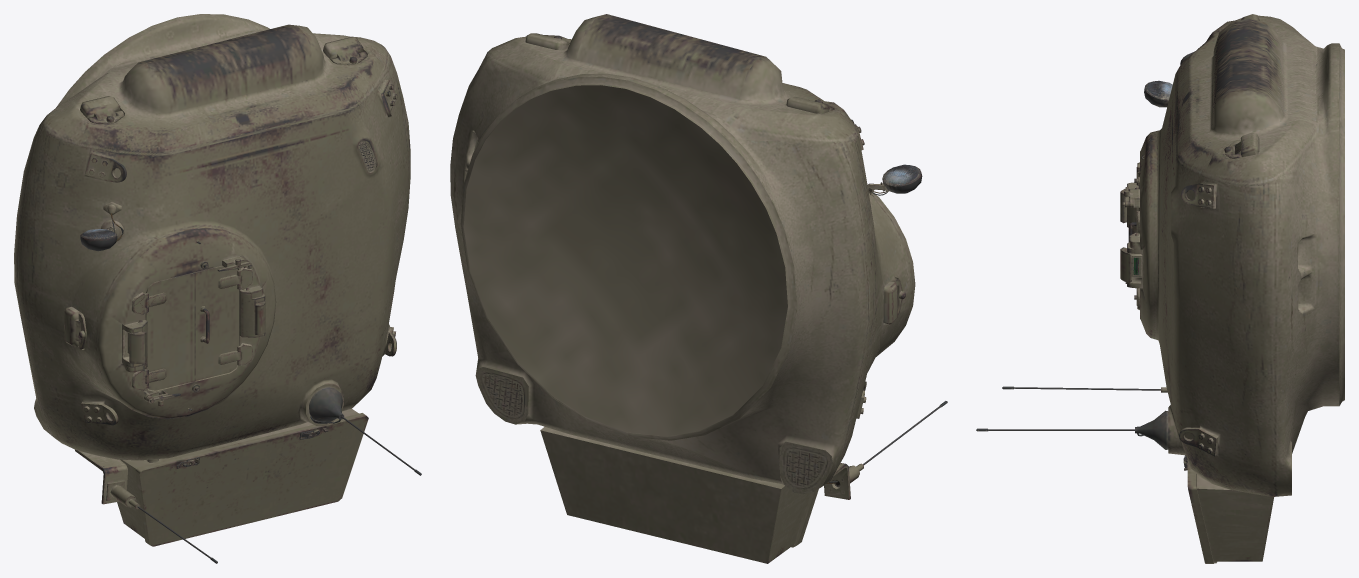
File: Turret_01.glb
3 views of the same model, side by side, from view 1: azimuth 30°, elevation 25°; view 2: azimuth 150°, elevation 25°; view 3: azimuth 270°, elevation 25° (orthographic). The views are drawn at different scales.
Parts seen in each view (by area): view 1: set_0_group_0; view 2: set_0_group_0; view 3: set_0_group_0.
Boxes of the visible parts, box(x1,y1,x2,y2) form: set_0_group_0: box(14, 14, 421, 563); set_0_group_0: box(450, 14, 947, 563); set_0_group_0: box(976, 14, 1344, 563).
Size of the model in its own units: 2.02 by 2.32 by 1.67.
1 material, 1 textured.
